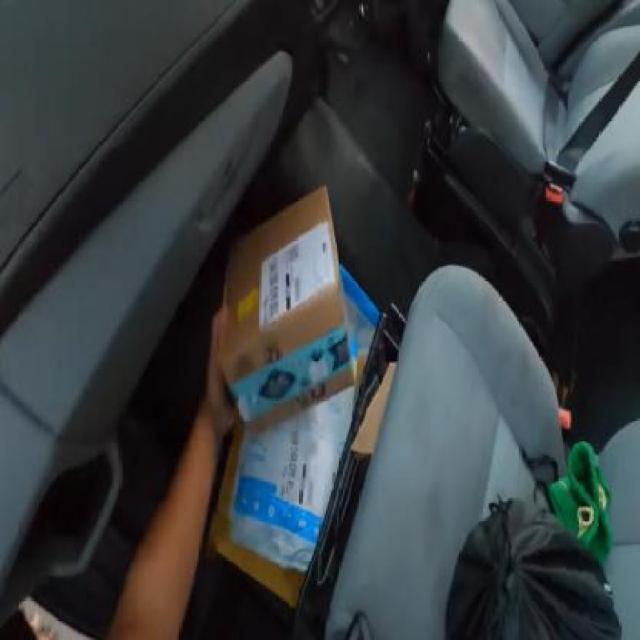cardboxes: (223, 178, 357, 438)
